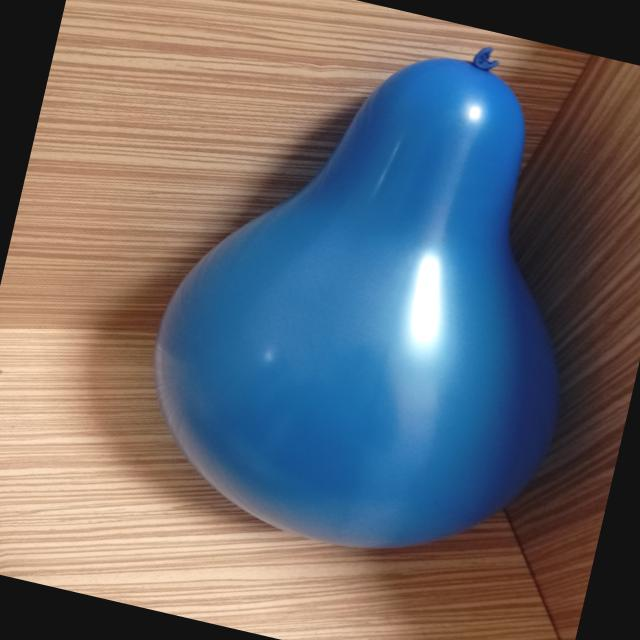balloon: (154, 49, 558, 547), (439, 281, 441, 282)
